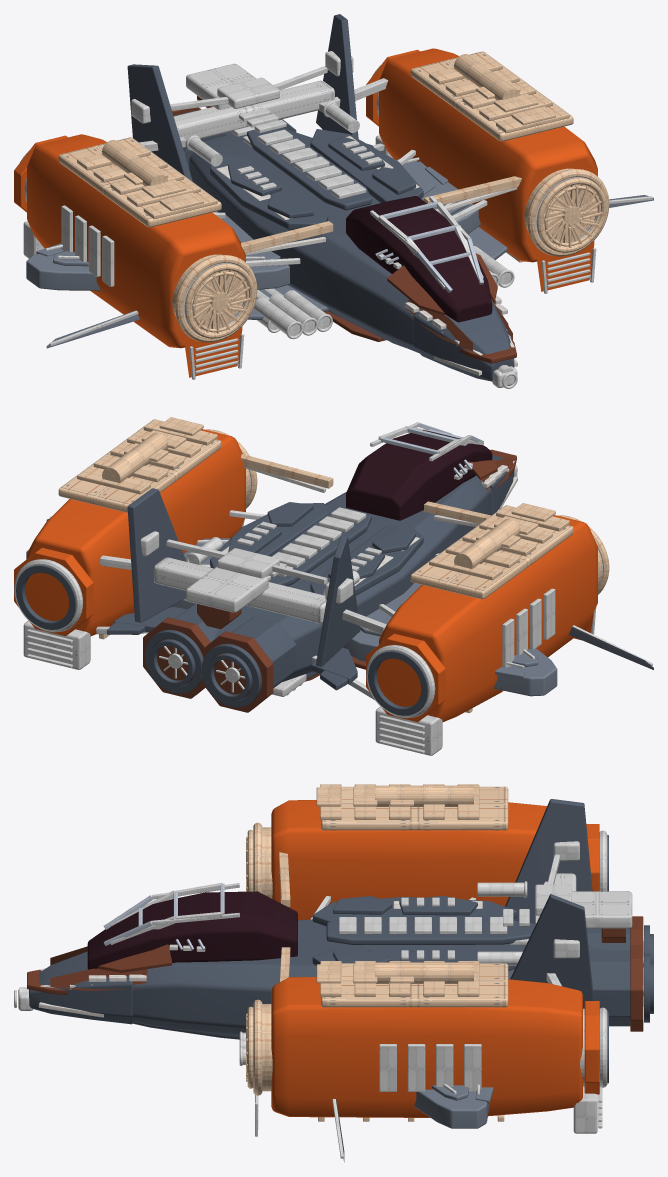
The model's file is charger.obj.
3 views of the same model, one above another, from view 1: azimuth 30°, elevation 25°; view 2: azimuth 150°, elevation 25°; view 3: azimuth 270°, elevation 25° (orthographic). The views are drawn at different scales.
Visible parts, largest first — view 1: 17_|_Motor_principal_lateral_1, 17_|_Motor_principal_lateral_-1, 01_|_Fuselaje_blindado_ancho, 07_|_Cabina_elevada_de_ataque, 02_|_Proa_reforzada_compacta, R08_|_Traviesa_trasera_blindada, 29_|_Aleta_estabilizadora_alta_-1, 18_|_Blindaje_motor_superior_-1, 18_|_Blindaje_motor_superior_1, 12_|_Ala_principal_extendida_-1, 29_|_Aleta_estabilizadora_alta_1, D03_|_Hombro_estructural_-1 (+42 smaller); view 2: 17_|_Motor_principal_lateral_-1, 17_|_Motor_principal_lateral_1, 01_|_Fuselaje_blindado_ancho, 07_|_Cabina_elevada_de_ataque, 29_|_Aleta_estabilizadora_alta_1, 18_|_Blindaje_motor_superior_-1, R11_|_Escudo_salida_motor_lateral_-1, R08_|_Traviesa_trasera_blindada, R11_|_Escudo_salida_motor_lateral_1, 18_|_Blindaje_motor_superior_1, 29_|_Aleta_estabilizadora_alta_-1, R09_|_Vertebra_superior_posterior (+50 smaller); view 3: 17_|_Motor_principal_lateral_1, 17_|_Motor_principal_lateral_-1, 01_|_Fuselaje_blindado_ancho, 07_|_Cabina_elevada_de_ataque, 29_|_Aleta_estabilizadora_alta_1, 29_|_Aleta_estabilizadora_alta_-1, 18_|_Blindaje_motor_superior_1, 18_|_Blindaje_motor_superior_-1, 02_|_Proa_reforzada_compacta, D01_|_Espina_dorsal_central, R01_|_Carcasa_octagonal_central_1, 12_|_Ala_principal_extendida_1 (+29 smaller).
Boxes of the visible parts, bbox=[...] form: 17_|_Motor_principal_lateral_1: bbox=[379, 48, 597, 262]; 17_|_Motor_principal_lateral_-1: bbox=[27, 134, 245, 348]; 01_|_Fuselaje_blindado_ancho: bbox=[189, 128, 418, 352]; 07_|_Cabina_elevada_de_ataque: bbox=[346, 196, 492, 322]; 02_|_Proa_reforzada_compacta: bbox=[413, 299, 514, 381]; R08_|_Traviesa_trasera_blindada: bbox=[173, 80, 334, 142]; 29_|_Aleta_estabilizadora_alta_-1: bbox=[127, 64, 192, 181]; 18_|_Blindaje_motor_superior_-1: bbox=[58, 137, 221, 227]; 18_|_Blindaje_motor_superior_1: bbox=[410, 51, 573, 141]; 12_|_Ala_principal_extendida_-1: bbox=[26, 211, 289, 290]; 29_|_Aleta_estabilizadora_alta_1: bbox=[316, 14, 358, 138]; D03_|_Hombro_estructural_-1: bbox=[210, 154, 328, 229]; 17_|_Motor_principal_lateral_-1: bbox=[379, 515, 597, 721]; 17_|_Motor_principal_lateral_1: bbox=[27, 429, 245, 636]; 01_|_Fuselaje_blindado_ancho: bbox=[213, 475, 492, 681]; 07_|_Cabina_elevada_de_ataque: bbox=[346, 430, 492, 520]; 29_|_Aleta_estabilizadora_alta_1: bbox=[127, 488, 186, 622]; 18_|_Blindaje_motor_superior_-1: bbox=[410, 512, 573, 599]; R11_|_Escudo_salida_motor_lateral_-1: bbox=[366, 633, 445, 721]; R08_|_Traviesa_trasera_blindada: bbox=[154, 557, 326, 623]; R11_|_Escudo_salida_motor_lateral_1: bbox=[14, 547, 93, 635]; 18_|_Blindaje_motor_superior_1: bbox=[58, 426, 221, 512]; 29_|_Aleta_estabilizadora_alta_-1: bbox=[316, 534, 360, 666]; R09_|_Vertebra_superior_posterior: bbox=[186, 566, 268, 612]; 17_|_Motor_principal_lateral_1: bbox=[271, 977, 582, 1117]; 17_|_Motor_principal_lateral_-1: bbox=[271, 800, 547, 920]; 01_|_Fuselaje_blindado_ancho: bbox=[132, 919, 607, 1034]; 07_|_Cabina_elevada_de_ataque: bbox=[87, 891, 297, 969]; 29_|_Aleta_estabilizadora_alta_1: bbox=[510, 894, 593, 1008]; 29_|_Aleta_estabilizadora_alta_-1: bbox=[505, 799, 592, 924]; 18_|_Blindaje_motor_superior_1: bbox=[321, 963, 508, 1007]; 18_|_Blindaje_motor_superior_-1: bbox=[321, 786, 508, 830]; 02_|_Proa_reforzada_compacta: bbox=[29, 951, 132, 1024]; D01_|_Espina_dorsal_central: bbox=[326, 918, 533, 944]; R01_|_Carcasa_octagonal_central_1: bbox=[589, 950, 630, 1026]; 12_|_Ala_principal_extendida_1: bbox=[414, 1089, 489, 1128].
Size of the model in its own units: 16.39 by 4.82 by 14.52.
10 materials, 5 textured.
